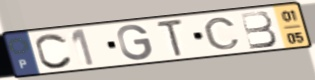1: (69, 27, 97, 69)
B: (238, 10, 280, 51)
C: (33, 32, 75, 70), (202, 16, 242, 51)
G: (115, 23, 154, 62)
T: (155, 18, 186, 59)
